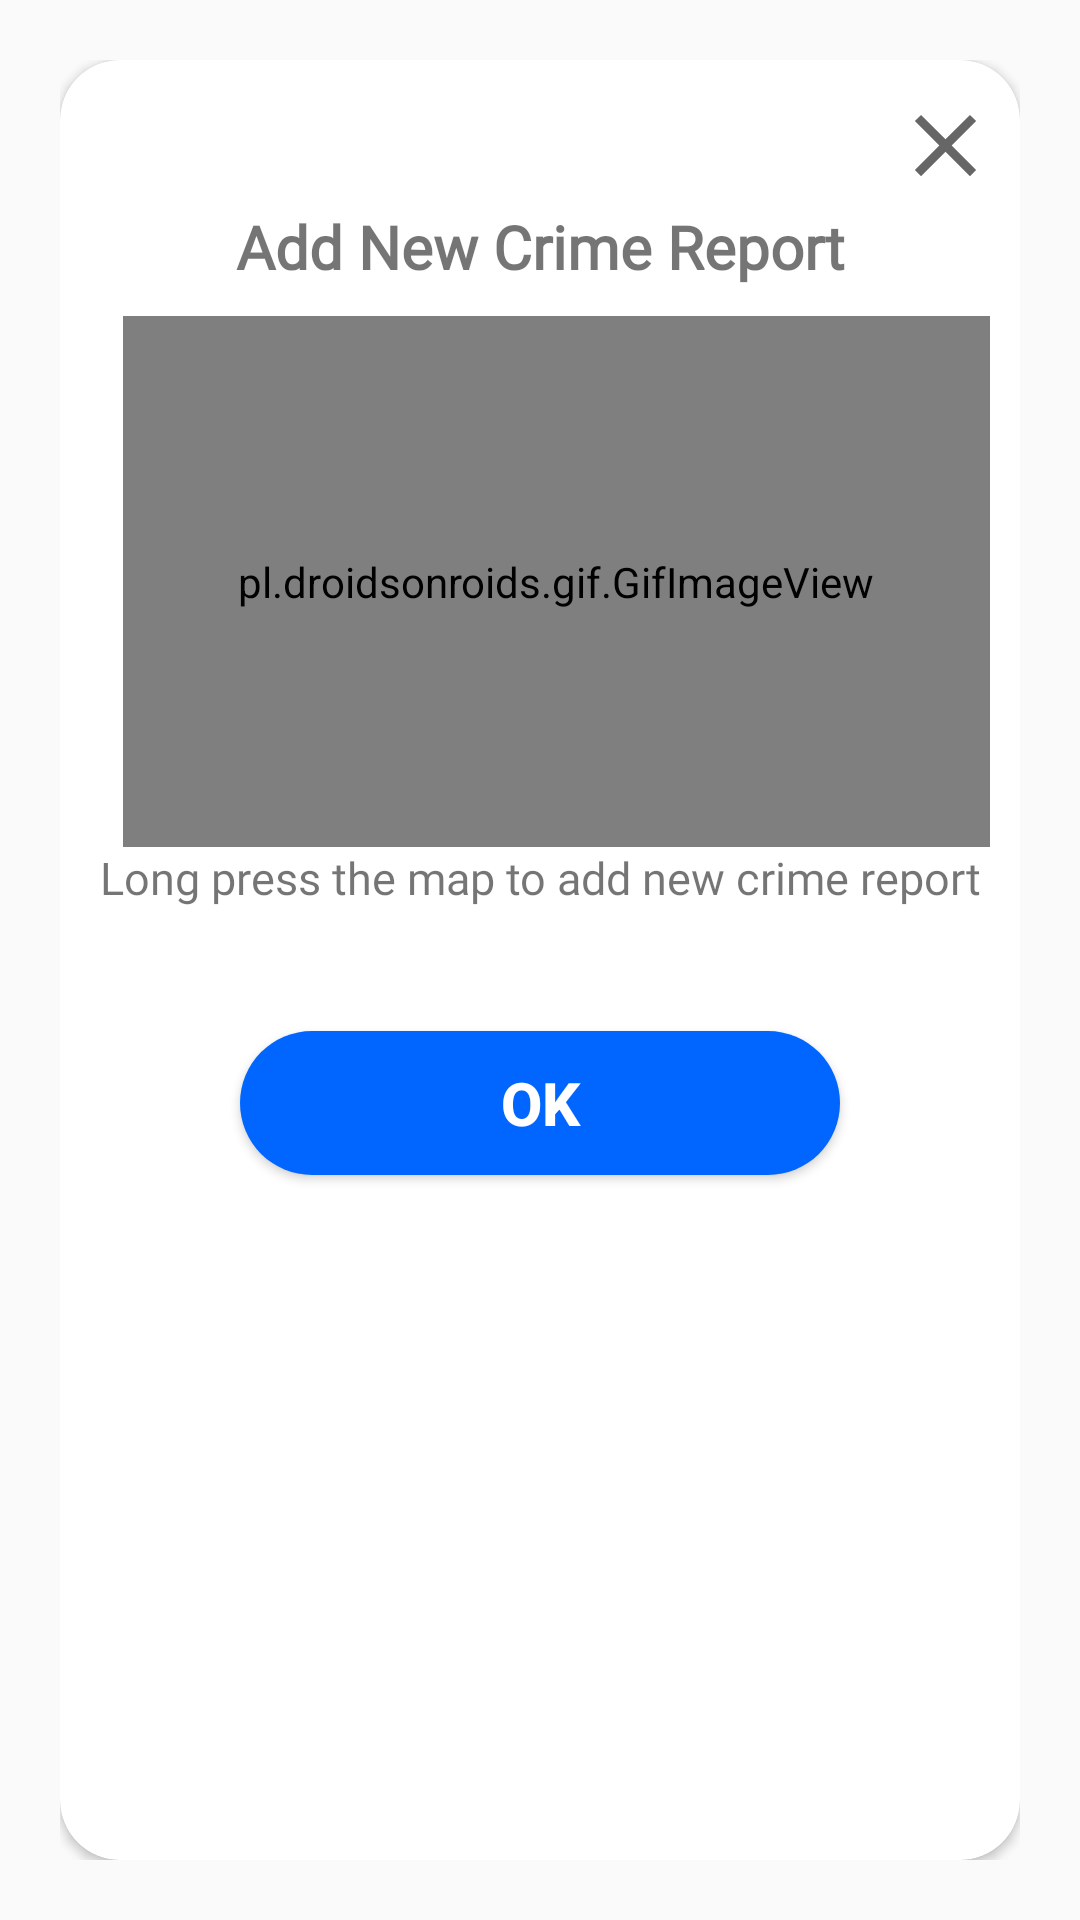

Icon bounding boxes for this 1080px×1920px phone screenshot, format (x1, y1, x2, y2):
close: (915, 115, 976, 176)
